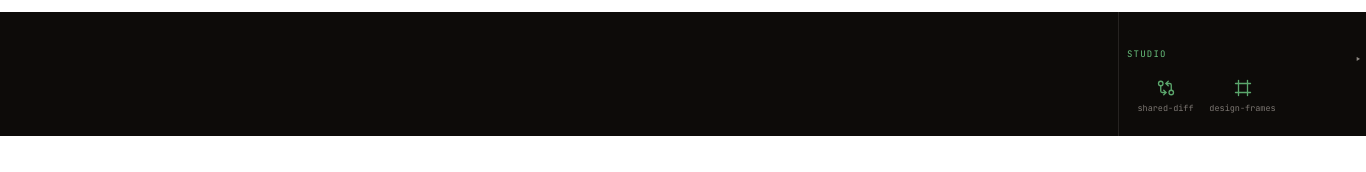
it: a Studio tile in the chat surface › the folded strip opens again on click, and offers its own way back
The width and height of the screenshot is (1366, 172).
Click the button with test id "studio-kind-shared-diff": (1166, 95) [1129, 70, 1202, 120]
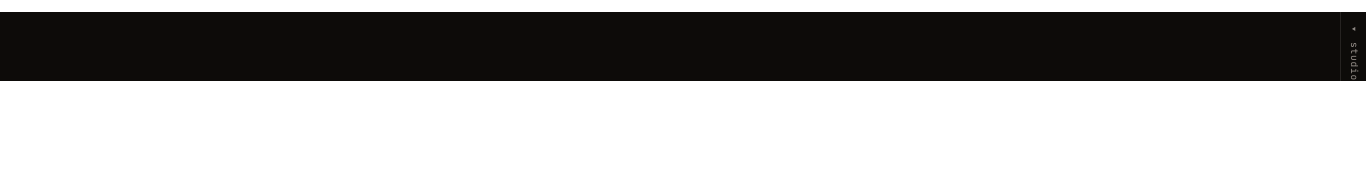
Click the button with test id "studio-rail-unfold": (1354, 27) [1350, 12, 1357, 42]
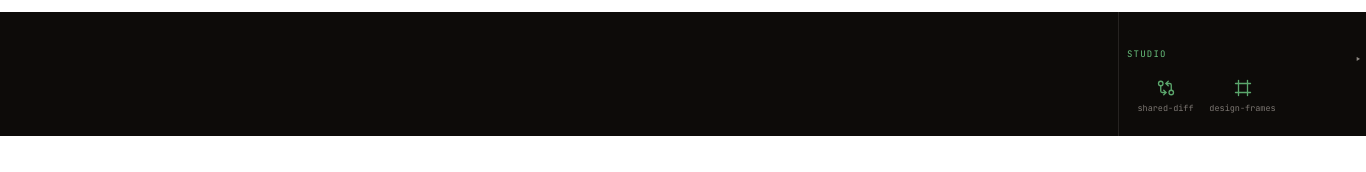
Now the button with test id "studio-rail-fold" is shown, box [1355, 50, 1362, 68]
